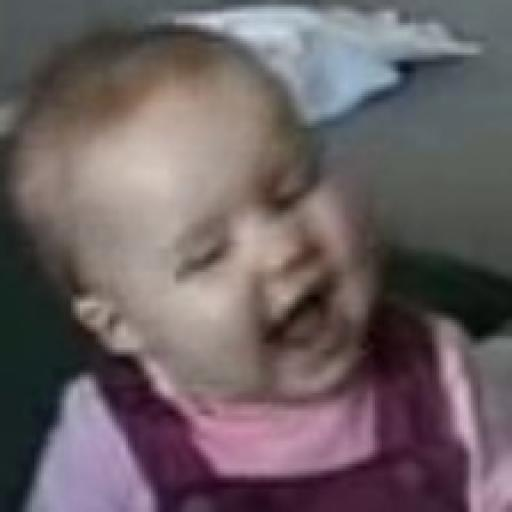Autism: (73, 20, 368, 455)
